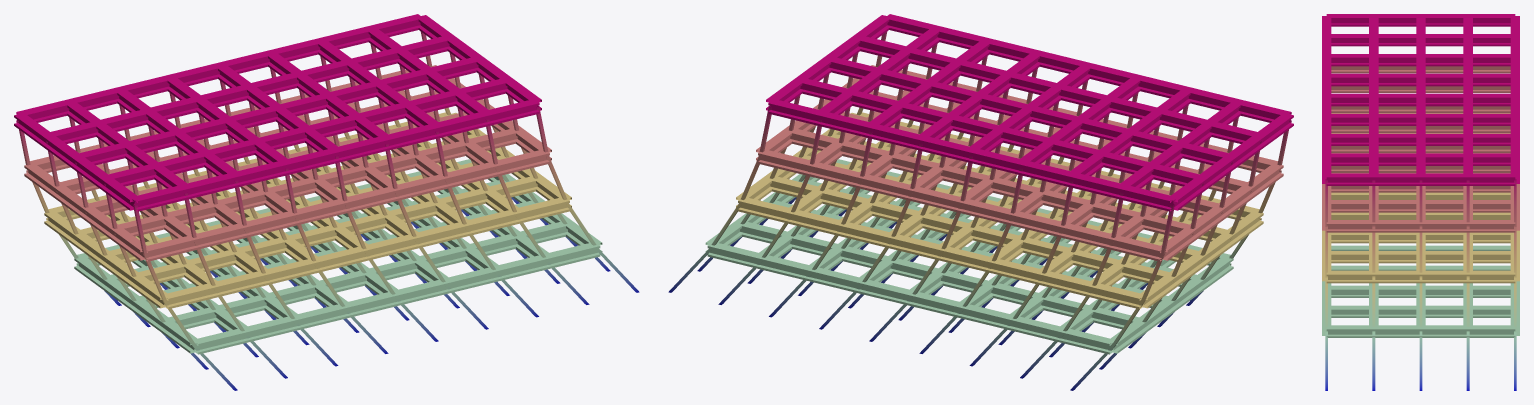
3 renders of one model, left to right at view 1: azimuth 30°, elevation 25°; view 2: azimuth 150°, elevation 25°; view 3: azimuth 270°, elevation 25°, orthographic. The views are drawn at different scales.
Bounding box in the file's own units: 50.66 × 20.5 × 21.
